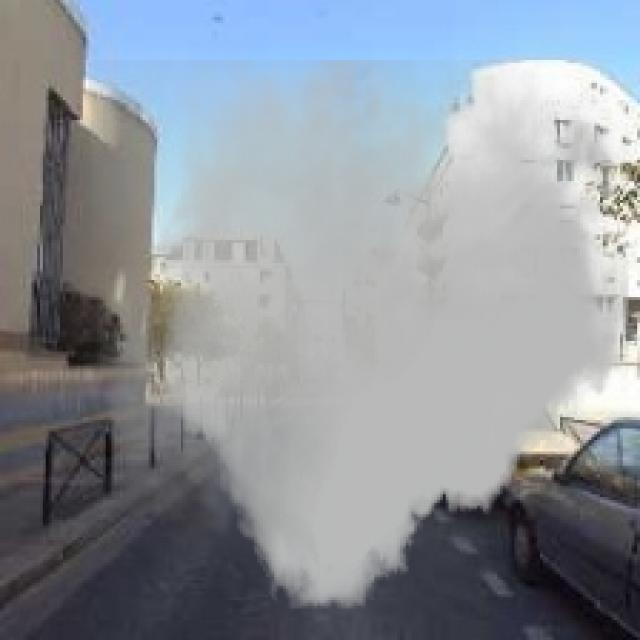smoke: (92, 60, 637, 609)
